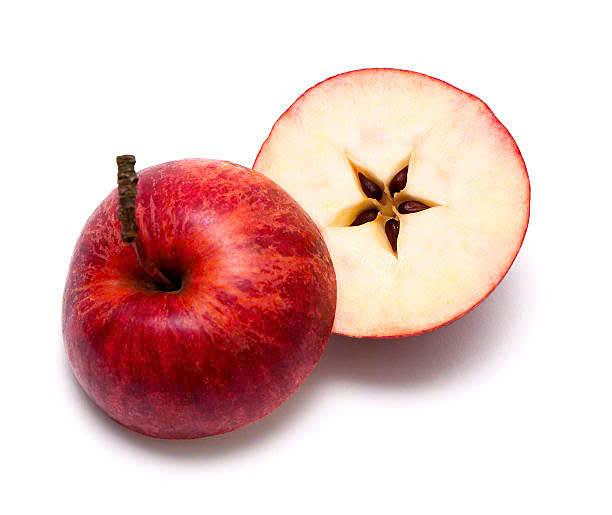apple: (59, 151, 336, 449), (306, 59, 538, 348)
